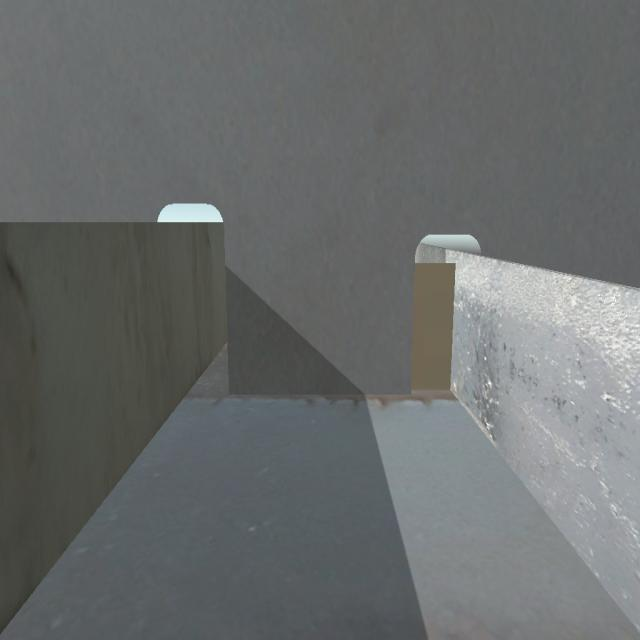fillet_yong_jeop_jang: (230, 384, 452, 396)
longi_yong_jeop_jang: (448, 262, 459, 394)
plate_behind: (413, 268, 455, 391)
